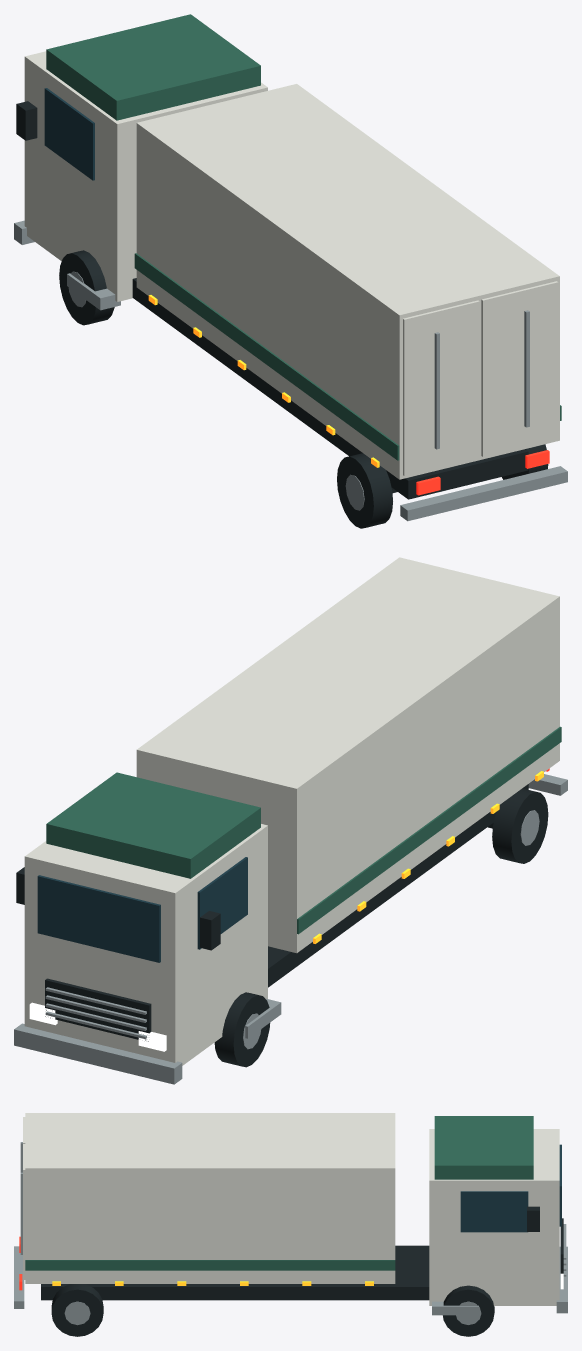
The model's file is truck-rigid.glb.
3 views of the same model, one above another, from view 1: azimuth 30°, elevation 25°; view 2: azimuth 150°, elevation 25°; view 3: azimuth 270°, elevation 25° (orthographic). The views are drawn at different scales.
Visible parts, largest first — view 1: cargo-box, rear-door (×2), cab, roof-fairing, tractor, frame, cargo-stripe, rear-bumper, side-window, door-lock (×2), step, mirror; view 2: cargo-box, cab, roof-fairing, windshield, tractor, cargo-stripe, bumper, frame, grille, side-window, mirror; view 3: cargo-box, cab, frame, roof-fairing, tractor, cargo-stripe, side-window, rear-bumper, step, bumper, rear-door, mirror.
Part boxes in pixels (bbox=[...]): cargo-box: bbox=[136, 84, 559, 479]; rear-door (×2): bbox=[403, 281, 558, 475]; cab: bbox=[24, 51, 267, 301]; roof-fairing: bbox=[46, 14, 260, 120]; tractor: bbox=[59, 250, 548, 528]; frame: bbox=[132, 278, 528, 499]; cargo-stripe: bbox=[134, 253, 399, 460]; rear-bumper: bbox=[400, 466, 567, 521]; side-window: bbox=[44, 88, 94, 180]; door-lock (×2): bbox=[434, 310, 529, 449]; step: bbox=[67, 273, 120, 310]; mirror: bbox=[16, 101, 37, 140]; cargo-box: bbox=[136, 557, 559, 953]; cab: bbox=[24, 824, 267, 1065]; roof-fairing: bbox=[46, 772, 260, 878]; windshield: bbox=[37, 875, 160, 962]; tractor: bbox=[214, 788, 548, 1067]; cargo-stripe: bbox=[297, 726, 561, 934]; bumper: bbox=[14, 1023, 182, 1084]; frame: bbox=[268, 784, 528, 987]; grille: bbox=[45, 978, 151, 1041]; side-window: bbox=[197, 857, 247, 949]; mirror: bbox=[200, 911, 220, 950]; cargo-box: bbox=[25, 1113, 395, 1283]; cab: bbox=[429, 1129, 559, 1305]; frame: bbox=[41, 1245, 429, 1300]; roof-fairing: bbox=[434, 1116, 533, 1179]; tractor: bbox=[51, 1284, 494, 1336]; cargo-stripe: bbox=[25, 1260, 395, 1270]; side-window: bbox=[460, 1191, 528, 1232]; rear-bumper: bbox=[14, 1246, 24, 1308]; step: bbox=[432, 1301, 478, 1315]; bumper: bbox=[556, 1246, 567, 1313]; rear-door: bbox=[23, 1144, 25, 1279]; mirror: bbox=[527, 1206, 539, 1231].
Bounding box in the file's own units: 3.04 × 3.52 × 10.63.
